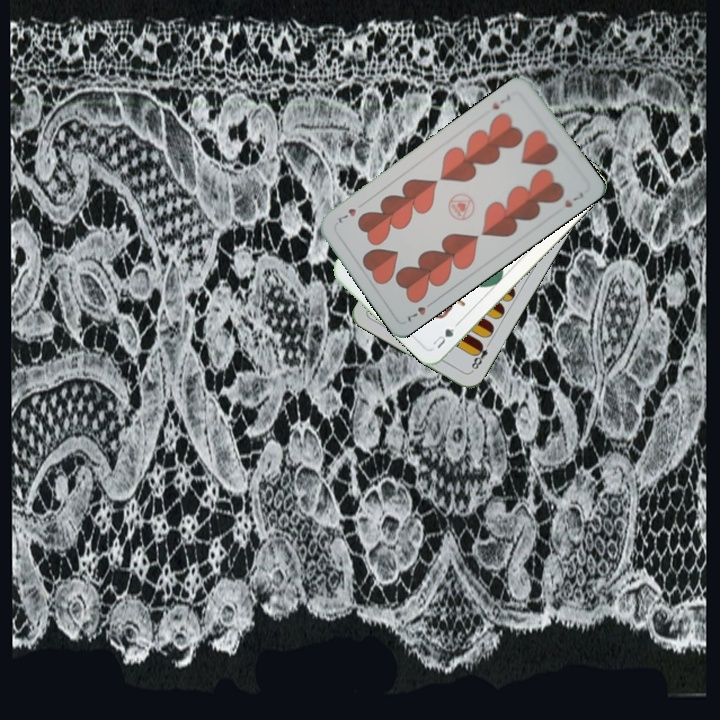E8: (467, 338, 493, 374)
GU: (428, 324, 457, 351)
H7: (402, 296, 437, 324), (488, 90, 513, 112)
